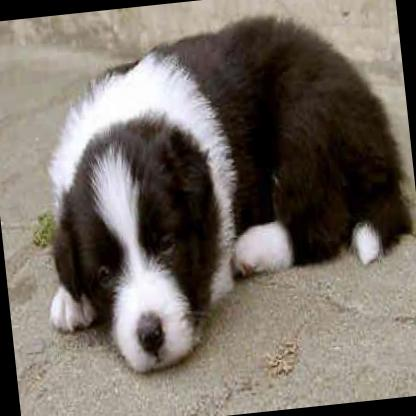Border_collie: (15, 0, 416, 383)
